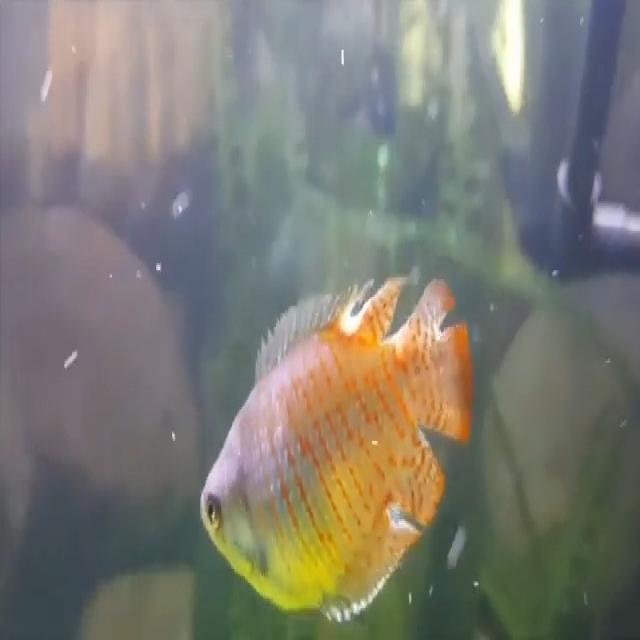fish: (197, 267, 477, 629)
